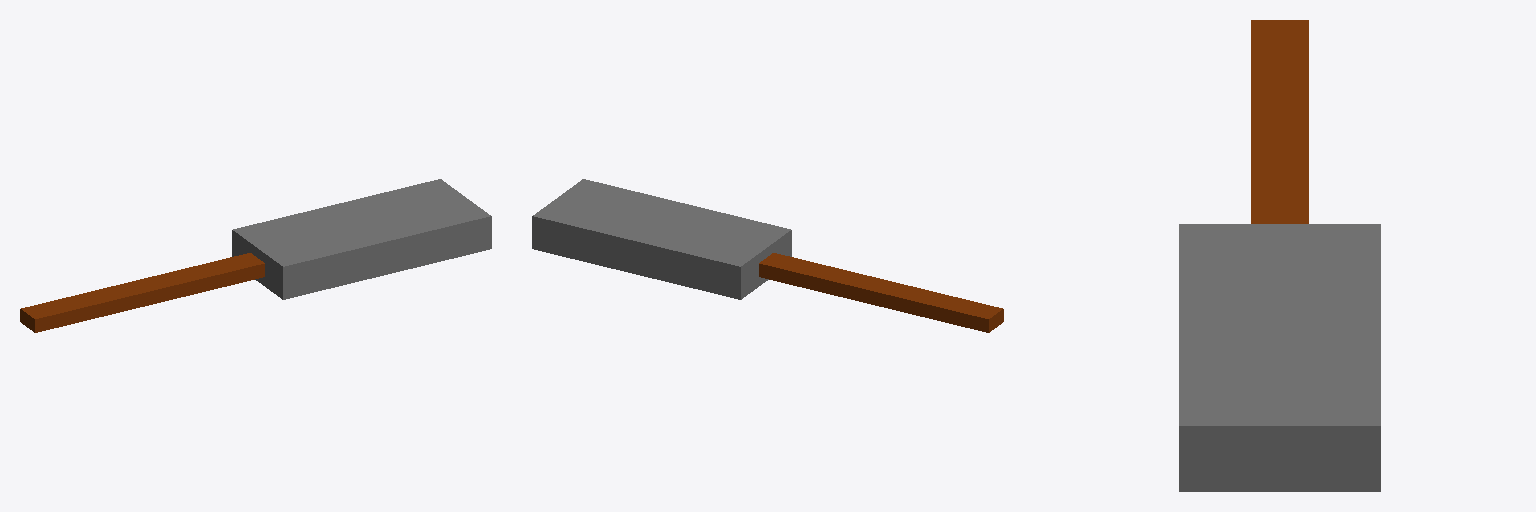
URDF robot description (handle_head):
<?xml version="1.0"?>
<robot name="handle_head">

  <link name="handle_head">
    <!-- Handle -->
    <visual>
              <origin xyz="0 0 0" rpy="0 0 0"/>
        <geometry>
          <box size="0.13448795909082026 0.014914373862452575 0.007661983179799138"/>
        </geometry>
        
      <material name="brown">
        <color rgba="0.55 0.27 0.07 1.0"/>
      </material>
    </visual>
    <collision>
              <origin xyz="0 0 0" rpy="0 0 0"/>
        <geometry>
          <box size="0.13448795909082026 0.014914373862452575 0.007661983179799138"/>
        </geometry>
        
    </collision>

    <!-- Head -->
    <visual>
              <origin xyz="0.12818062311400003 0 0" rpy="0 0 0"/>
        <geometry>
          <box size="0.12187328713717978 0.051605414654769546 0.018525558921086437"/>
        </geometry>
        
      <material name="gray">
        <color rgba="0.5 0.5 0.5 1.0"/>
      </material>
    </visual>
    <collision>
              <origin xyz="0.12818062311400003 0 0" rpy="0 0 0"/>
        <geometry>
          <box size="0.12187328713717978 0.051605414654769546 0.018525558921086437"/>
        </geometry>
        
    </collision>

    <inertial>
      <origin xyz="0.1097305998288117 0 0" rpy="0 0 0"/>
      <mass value="0.053125262005613676"/>
      <inertia ixx="1.1572720217841156e-05" iyy="0.00017670884577408114" izz="0.00018560540350671598" ixy="0" ixz="0" iyz="0"/>
    </inertial>
  </link>

</robot>

--- Render facts (derived) ---
The picture shows the robot from 3 angles, left to right: view 1: azimuth 30°, elevation 25°; view 2: azimuth 150°, elevation 25°; view 3: azimuth 270°, elevation 25°; orthographic projection.
Robot: handle_head — 1 links, 0 joints (none); root link handle_head; default pose: all joints at 0.
Visible links, largest first — view 1: handle_head; view 2: handle_head; view 3: handle_head.
Boxes of the visible links, box(x1,y1,x2,y2) form: handle_head: box(20, 179, 491, 332); handle_head: box(532, 179, 1003, 332); handle_head: box(1179, 20, 1380, 491).
Size in the robot's own frame: 0.2564 by 0.0516 by 0.0185 metres.
Geometry: primitives only (box / cylinder / sphere), no mesh files.
